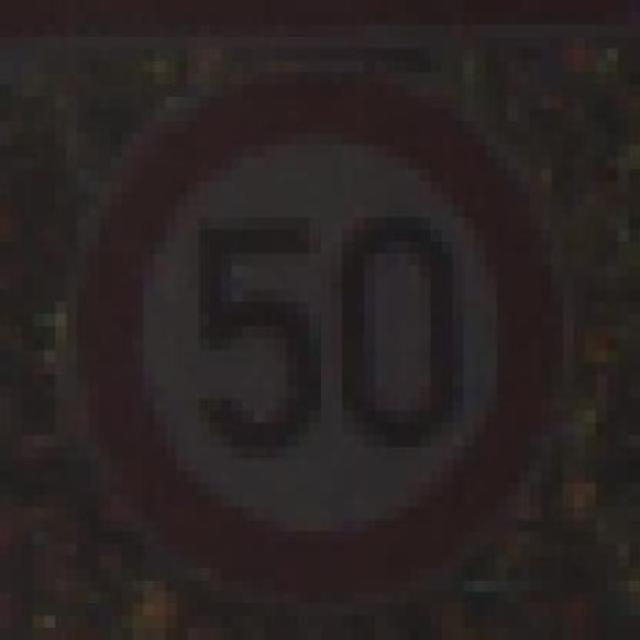forb_speed_over_50: (89, 72, 557, 603)
